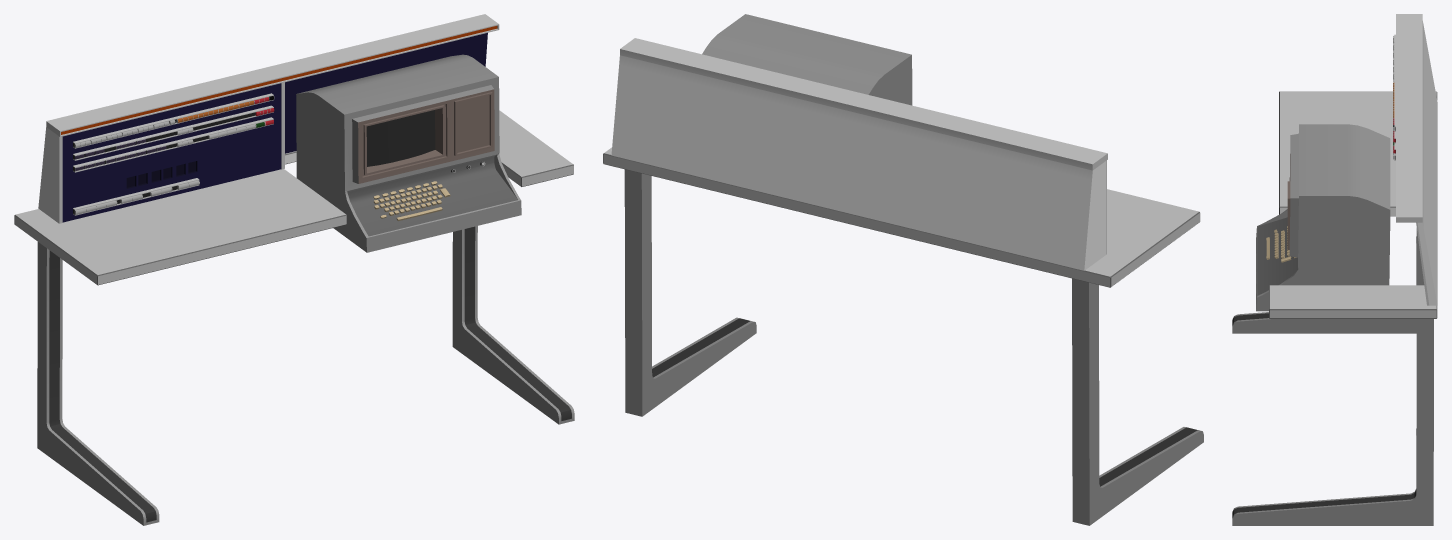
The model's file is Univac_494_2.glb.
The picture shows the model from 3 angles, left to right: view 1: azimuth 30°, elevation 25°; view 2: azimuth 150°, elevation 25°; view 3: azimuth 270°, elevation 25°; orthographic projection. The views are drawn at different scales.
Visible parts, largest first — view 1: Cube.001; view 2: Cube.001; view 3: Cube.001.
Boxes of the visible parts, <box> form: Cube.001: <box>14,14,574,525</box>; Cube.001: <box>603,14,1203,525</box>; Cube.001: <box>1232,14,1437,525</box>.
Bounding box in the file's own units: 2.34 × 1.57 × 0.9306.
